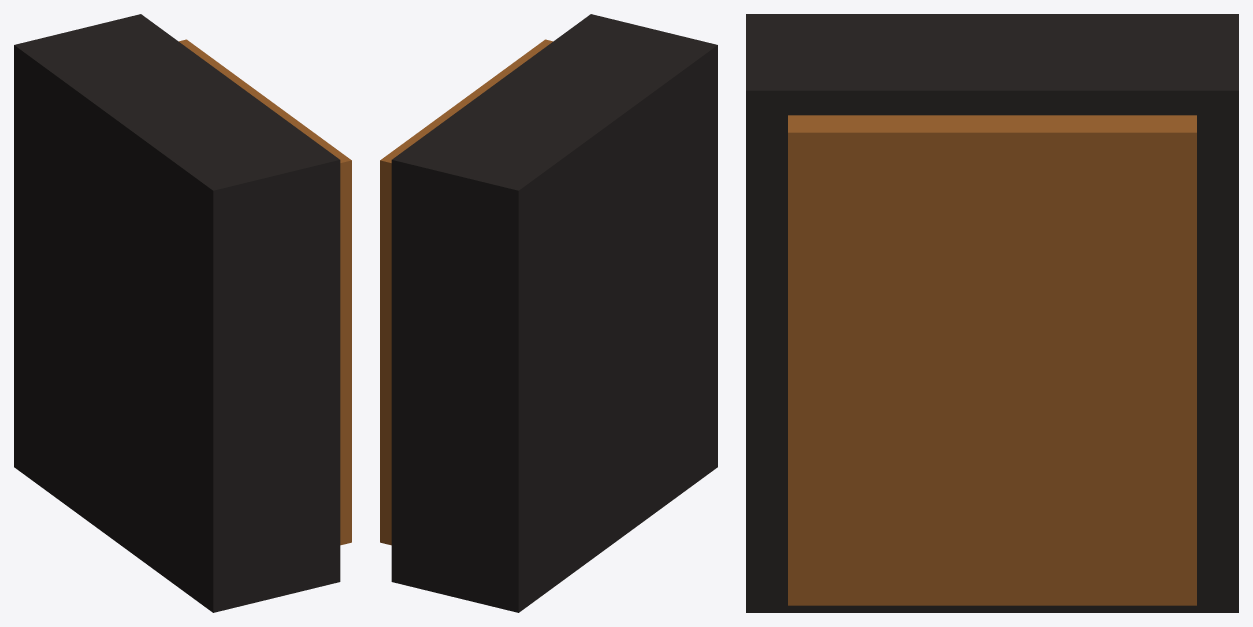
Rendered from plaque.gltf.
The picture shows the model from 3 angles, left to right: view 1: azimuth 30°, elevation 25°; view 2: azimuth 150°, elevation 25°; view 3: azimuth 270°, elevation 25°; orthographic projection. The views are drawn at different scales.
Parts seen in each view (by area): view 1: Cube, Cube.001; view 2: Cube, Cube.001; view 3: Cube.001, Cube.
Boxes of the visible parts, x1,y1,x2,y2 form: Cube: [14, 14, 340, 612]; Cube.001: [179, 39, 351, 545]; Cube: [391, 14, 717, 612]; Cube.001: [380, 39, 552, 545]; Cube.001: [788, 115, 1196, 605]; Cube: [746, 14, 1238, 612].
Bounding box in the file's own units: 0.7714 × 2 × 1.71.
